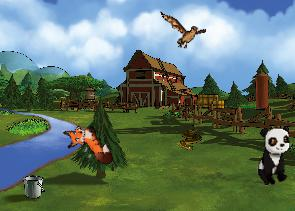eagle: (158, 11, 207, 50)
fox: (59, 115, 116, 177)
panda: (257, 125, 291, 186)
